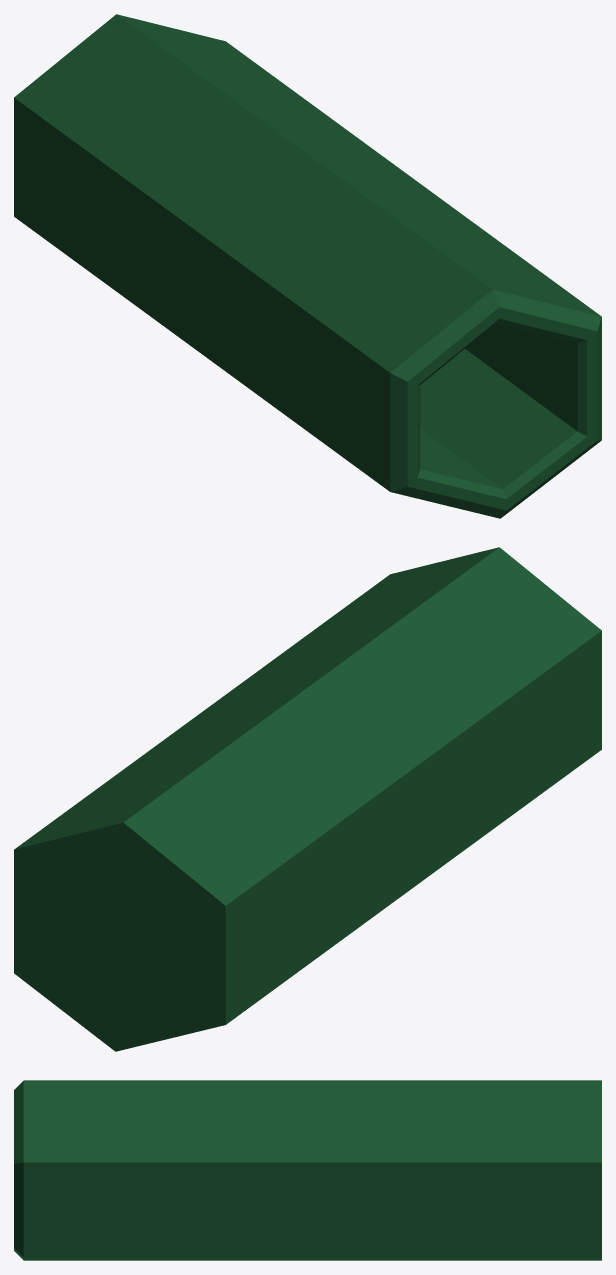
The model's file is Hexagon_Hollow.fbx.
The picture shows the model from 3 angles, top to bottom: view 1: azimuth 30°, elevation 25°; view 2: azimuth 150°, elevation 25°; view 3: azimuth 270°, elevation 25°; orthographic projection. The views are drawn at different scales.
Parts seen in each view (by area): view 1: Hexagon_Hollow; view 2: Hexagon_Hollow; view 3: Hexagon_Hollow.
Part boxes in pixels (<box>): Hexagon_Hollow: <box>14,14,601,518</box>; Hexagon_Hollow: <box>14,547,601,1051</box>; Hexagon_Hollow: <box>14,1080,601,1260</box>.
Size of the model in its own units: 95.88 by 100 by 300.
